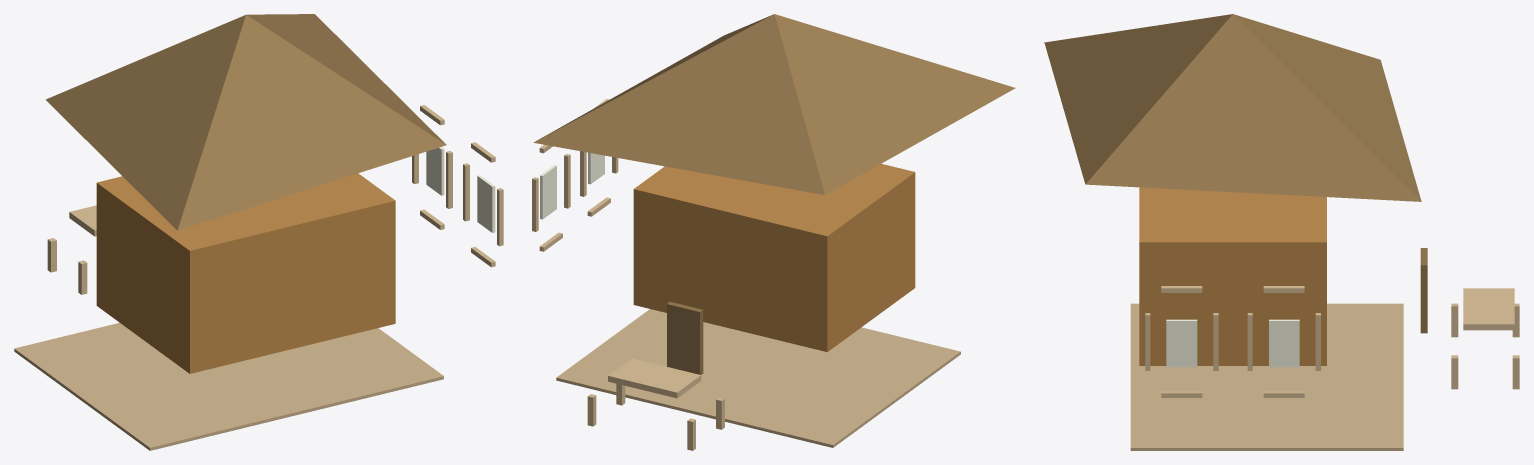
Rendered from furrier.glb.
3 renders of one model, left to right at view 1: azimuth 30°, elevation 25°; view 2: azimuth 150°, elevation 25°; view 3: azimuth 270°, elevation 25°, orthographic. The views are drawn at different scales.
Visible parts, largest first — view 1: RoofPeak, Body, Ground, Hide_0, Hide_1, TableTop; view 2: RoofPeak, Body, Ground, Door, TableTop, Hide_1; view 3: RoofPeak, Body, Ground, TableTop, Hide_0, Hide_1, Door.
Boxes of the visible parts, x1,y1,x2,y2 form: RoofPeak: [45, 14, 446, 230]; Body: [96, 173, 395, 373]; Ground: [14, 322, 443, 450]; Hide_0: [477, 175, 495, 232]; Hide_1: [426, 147, 444, 195]; TableTop: [69, 205, 96, 236]; RoofPeak: [533, 14, 1015, 194]; Body: [633, 163, 915, 352]; Ground: [556, 309, 960, 447]; Door: [667, 301, 703, 374]; TableTop: [608, 358, 701, 398]; Hide_1: [540, 165, 556, 219]; RoofPeak: [1044, 14, 1421, 201]; Body: [1139, 187, 1326, 365]; Ground: [1130, 303, 1403, 450]; TableTop: [1463, 288, 1514, 330]; Hide_0: [1166, 319, 1197, 367]; Hide_1: [1269, 319, 1299, 367]; Door: [1420, 248, 1427, 333].
Bounding box in the file's own units: 1.29 × 1.18 × 1.39.
